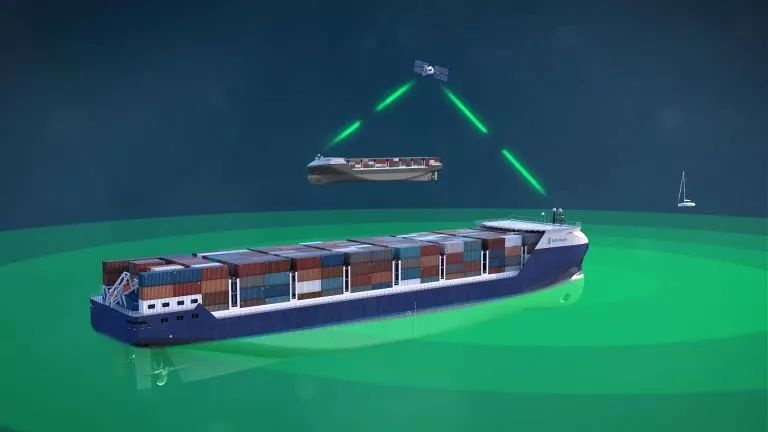Cargoship: (79, 195, 585, 348)
